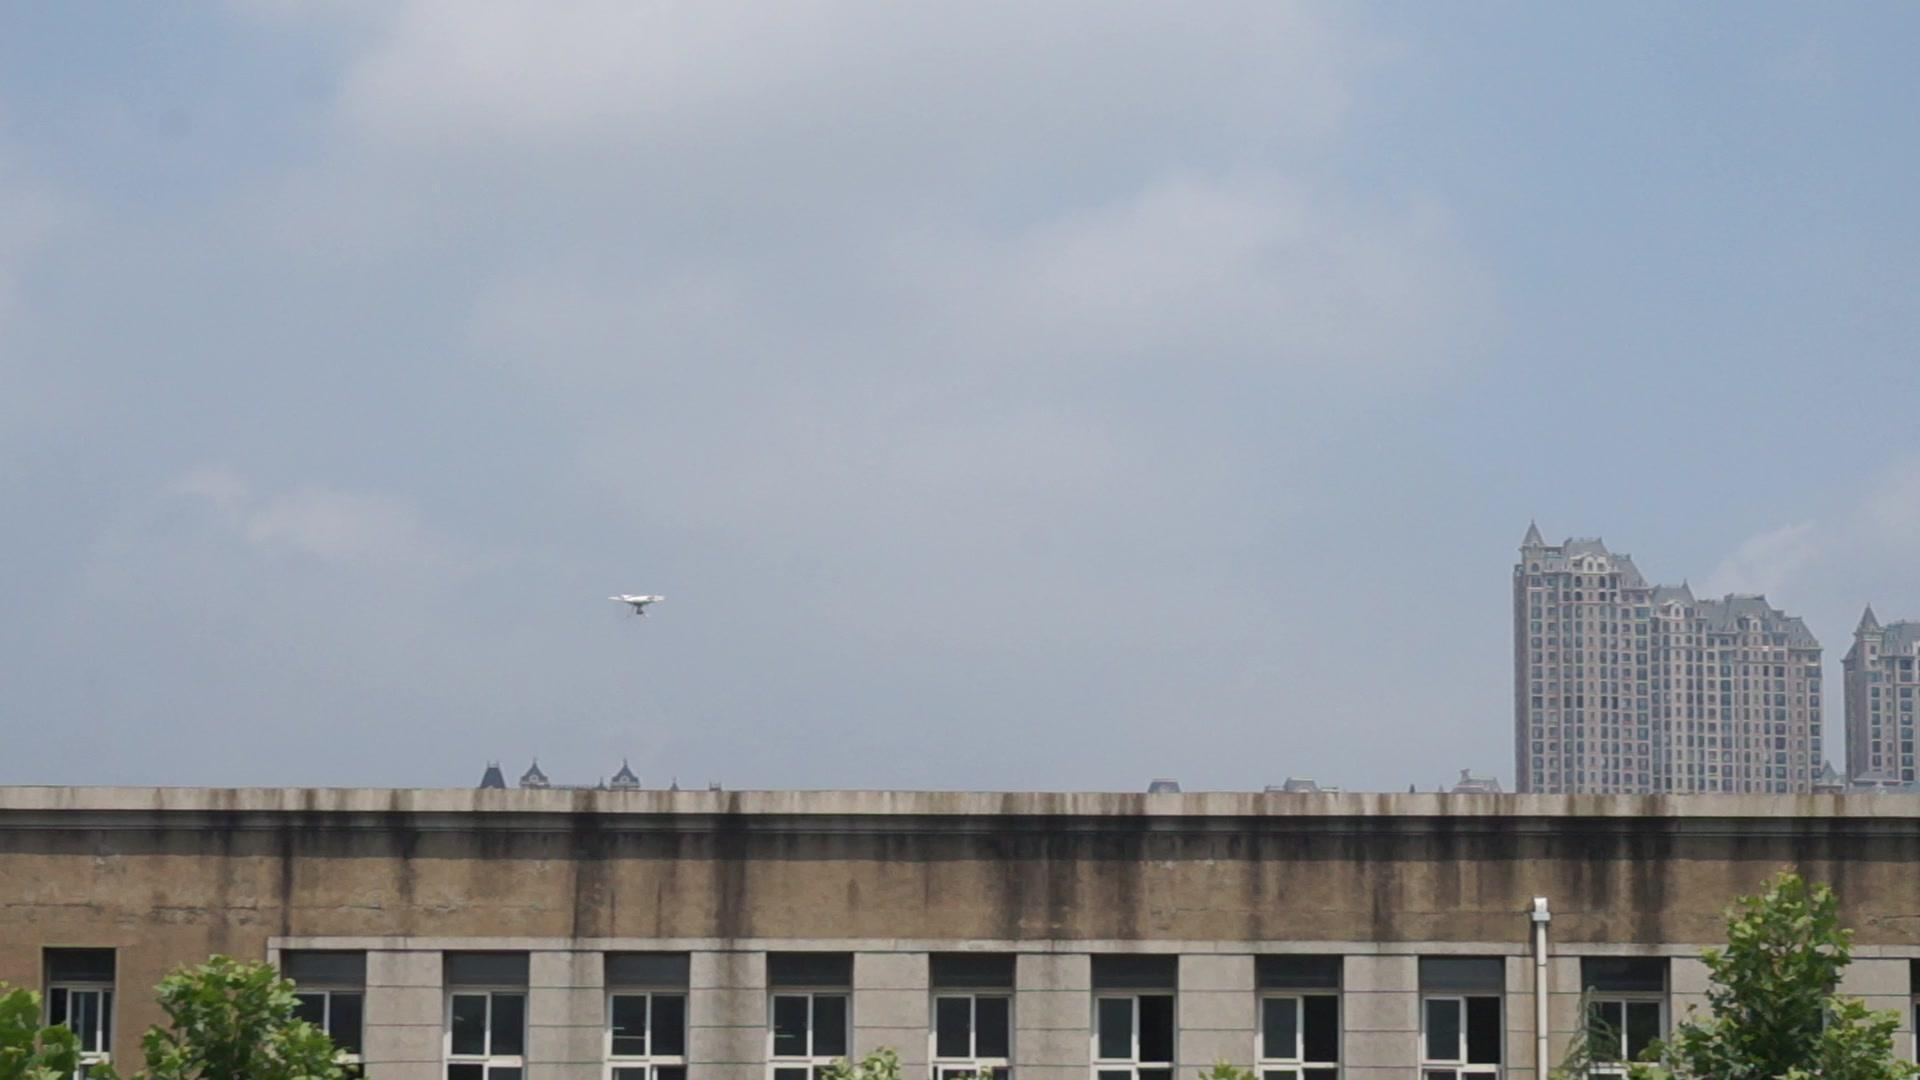UAV: (608, 595, 666, 618)
